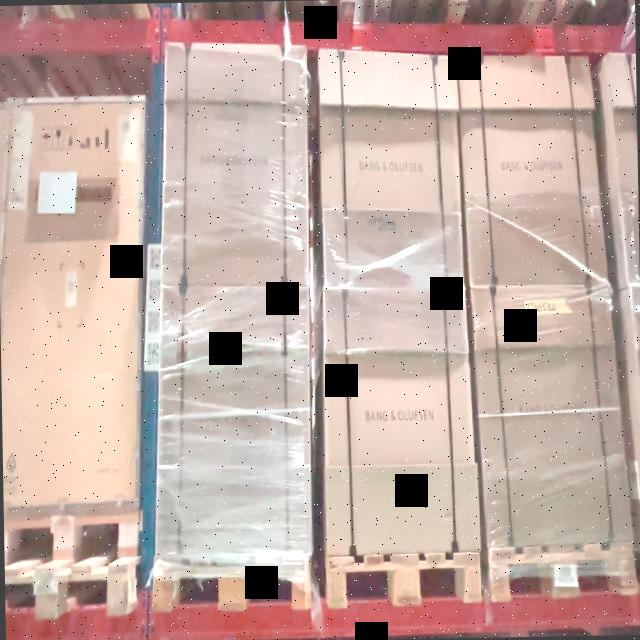box: (164, 288, 312, 560), (324, 288, 471, 554), (484, 289, 616, 549), (164, 44, 308, 282), (320, 54, 459, 284), (466, 54, 594, 286)
